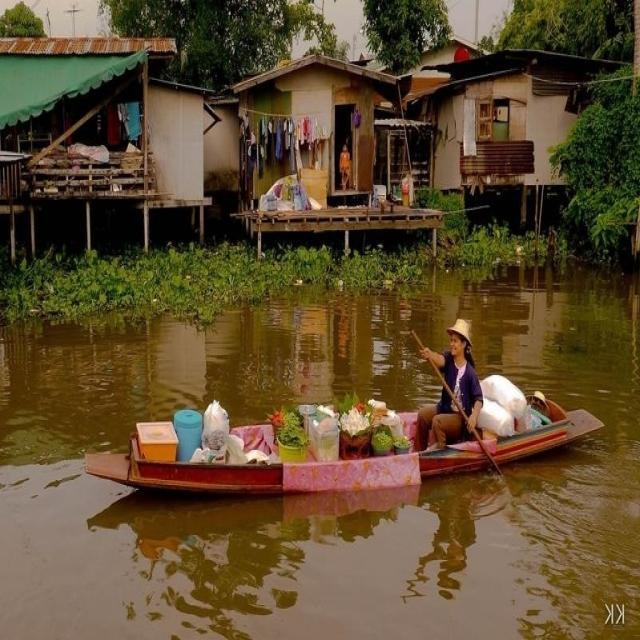Hyacinth: (0, 244, 423, 331)
boat: (70, 400, 607, 491)
